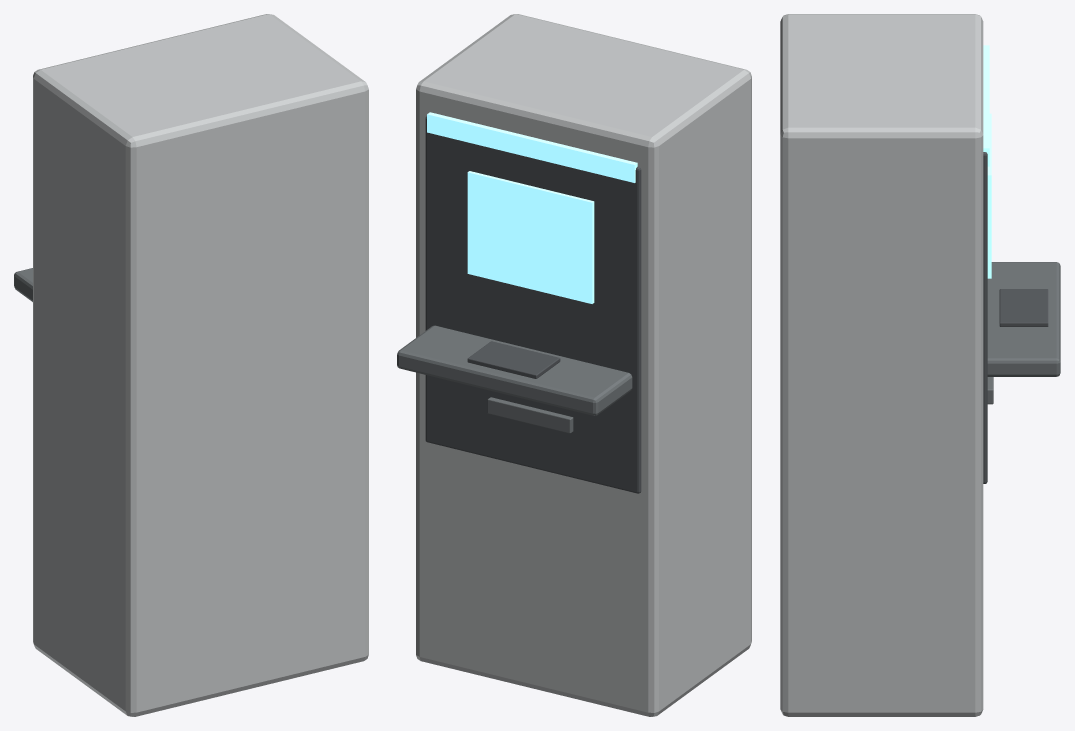
Rendered from atm.glb.
3 views of the same model, side by side, from view 1: azimuth 30°, elevation 25°; view 2: azimuth 150°, elevation 25°; view 3: azimuth 270°, elevation 25° (orthographic).
Parts seen in each view (by area): view 1: atm; view 2: atm; view 3: atm.
Part boxes in pixels (box(x1,y1,x2,y2)): atm: box(14, 14, 368, 716); atm: box(397, 14, 751, 716); atm: box(780, 14, 1060, 716).
Bounding box in the file's own units: 0.7 × 1.6 × 0.69.
